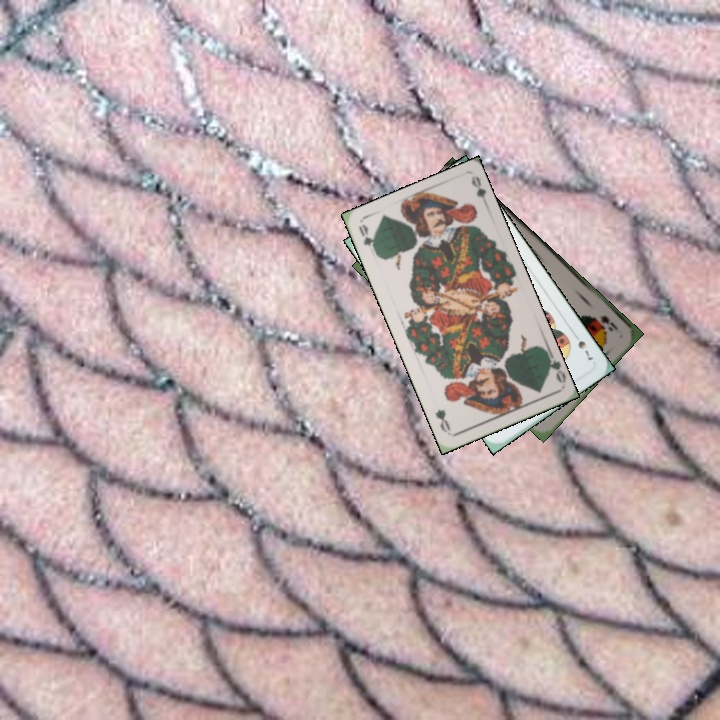GO: (355, 221, 381, 259), (543, 347, 568, 385)
S7: (569, 328, 596, 365)
SO: (596, 311, 621, 334)
